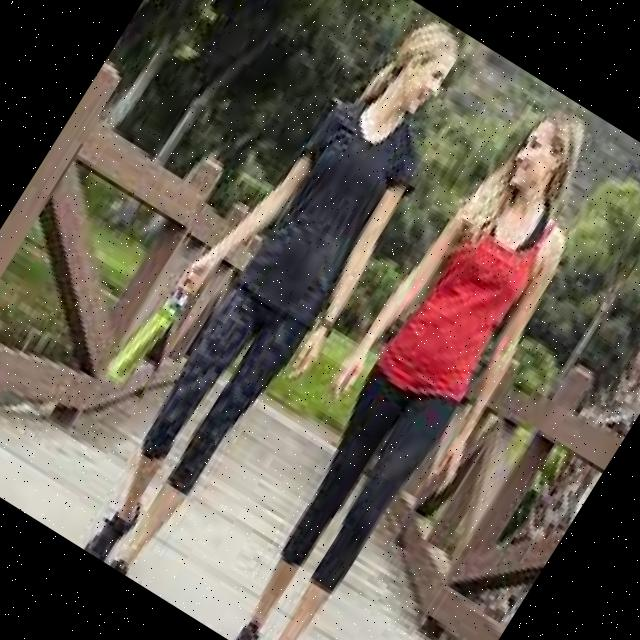Person: (16, 0, 503, 599), (185, 76, 640, 640)
